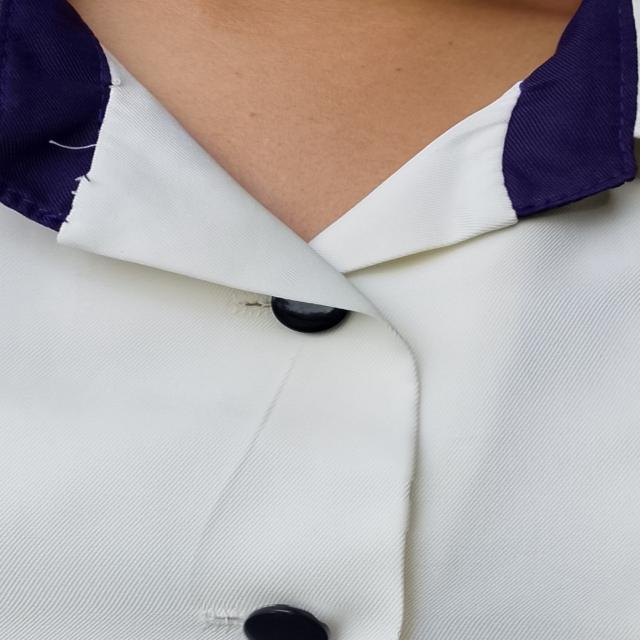education_female_uniform: (7, 0, 640, 614)
